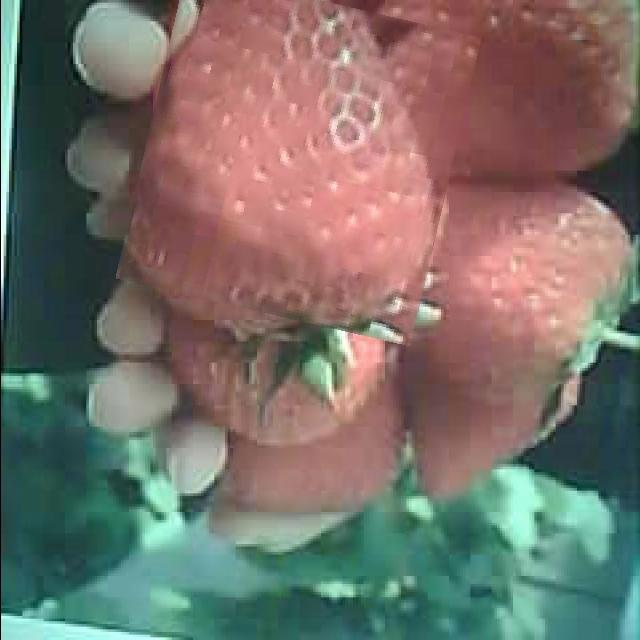strawberry: (131, 0, 465, 332)
